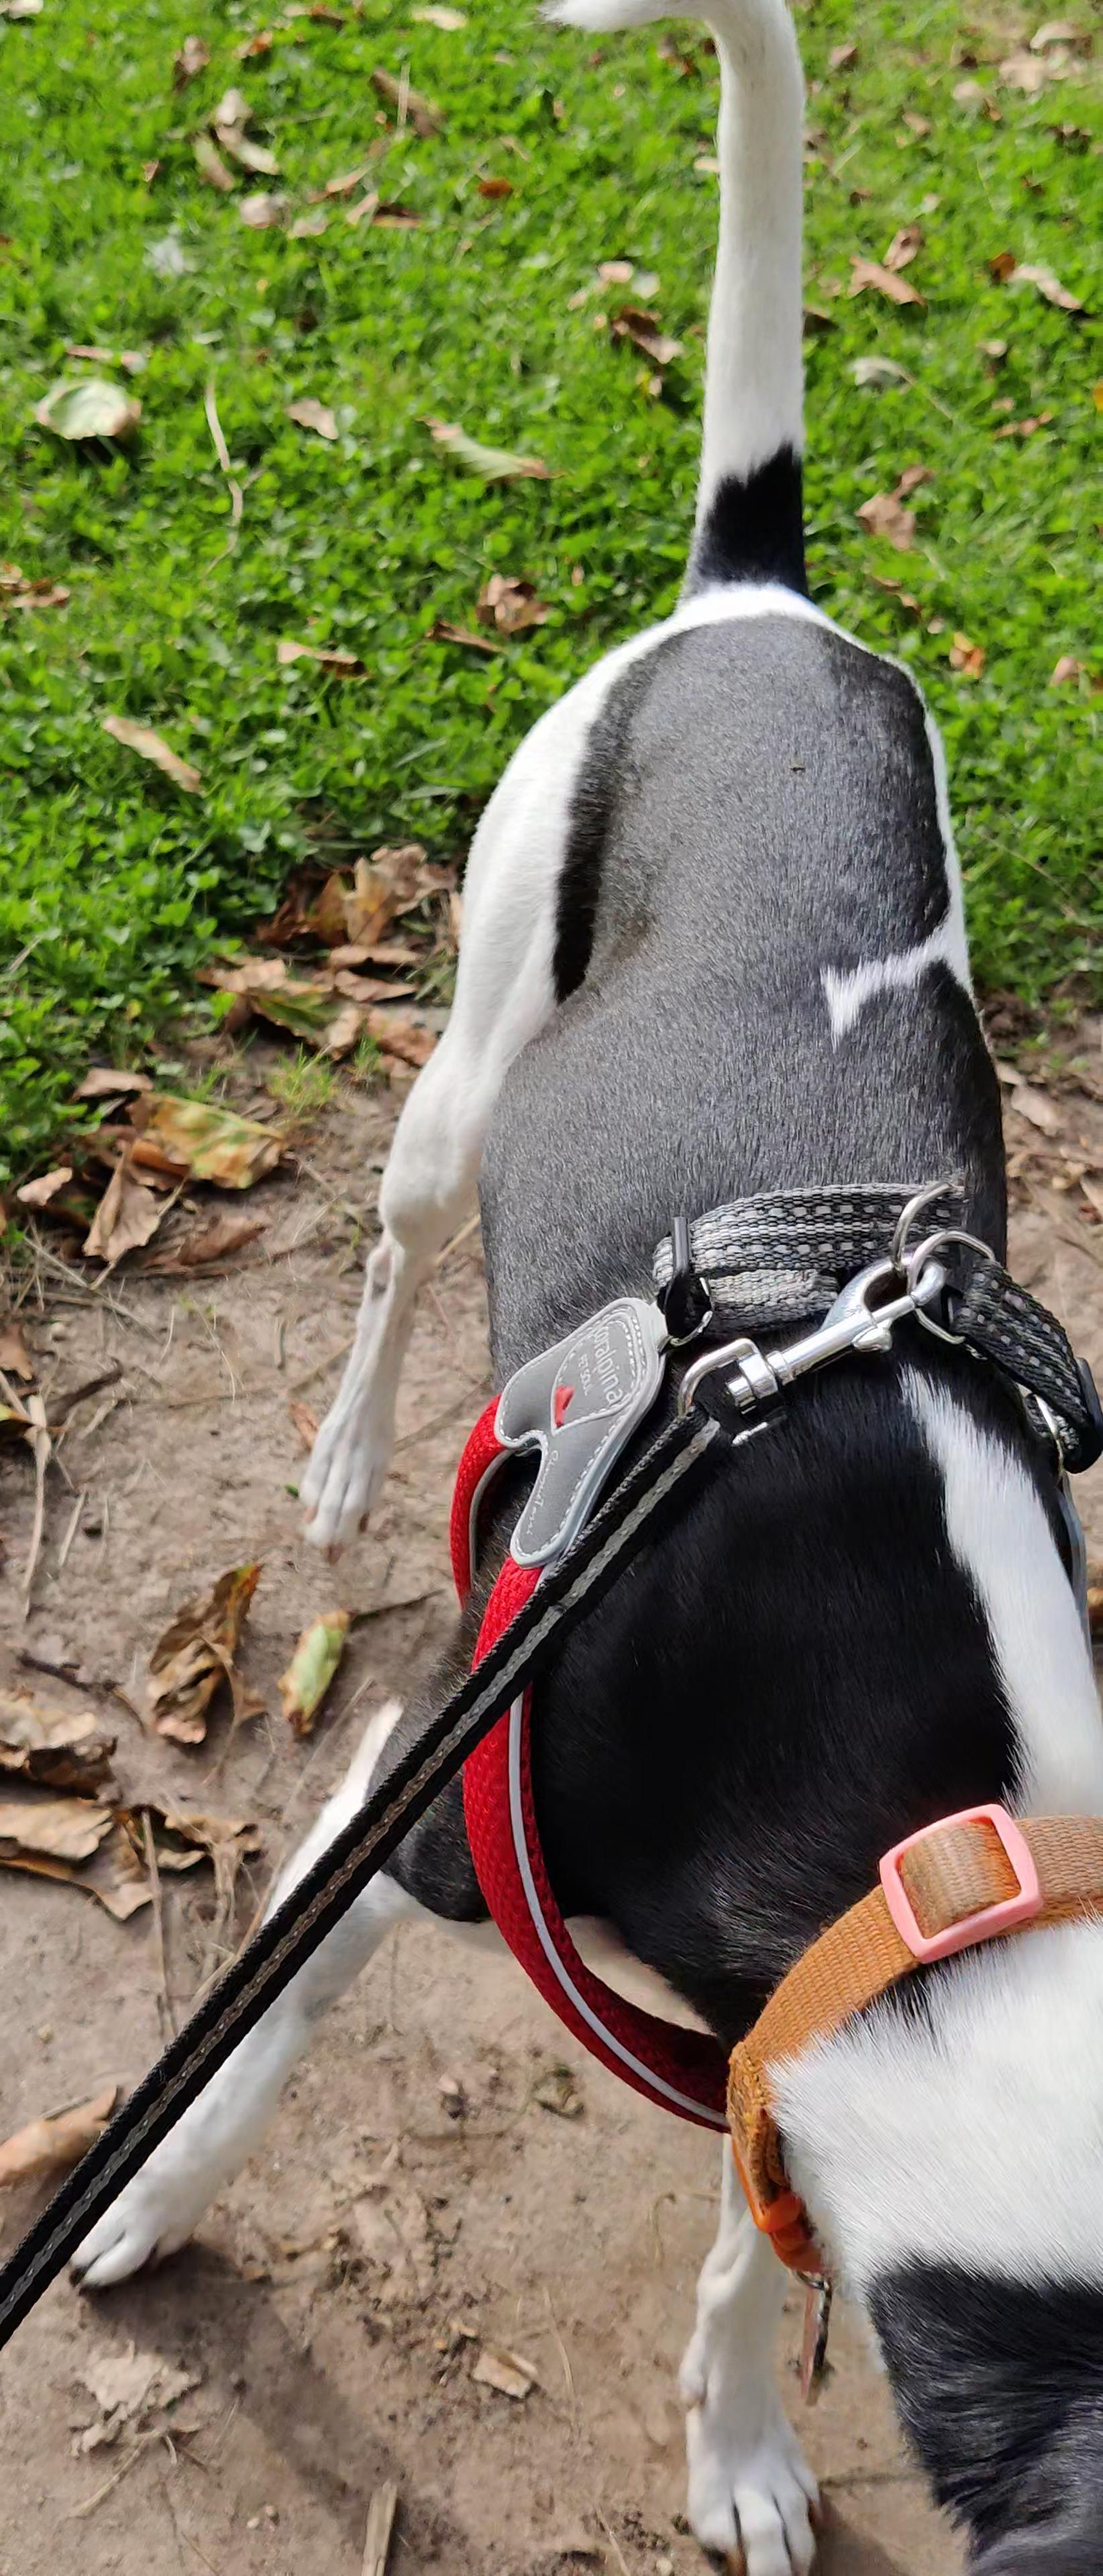Dog: (59, 0, 1103, 2576)
